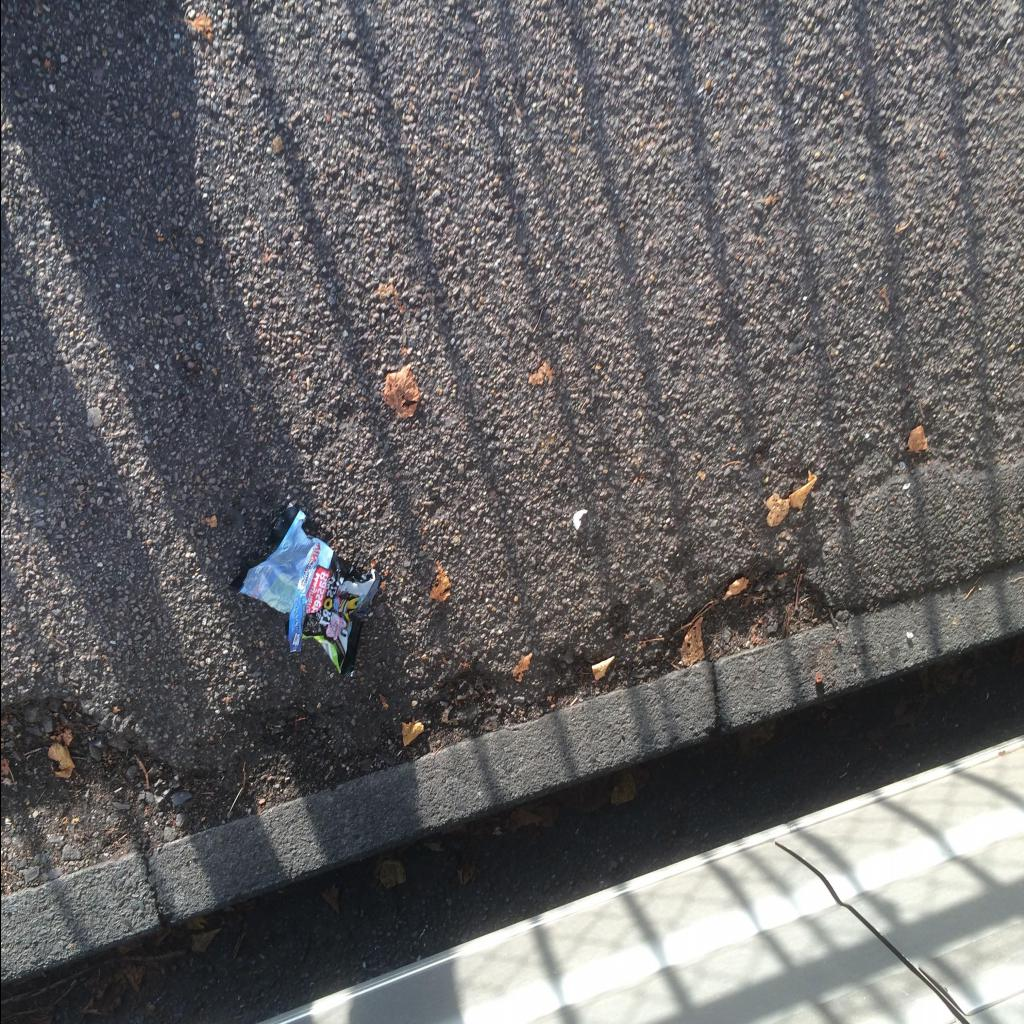Plastic film: (226, 500, 381, 678)
